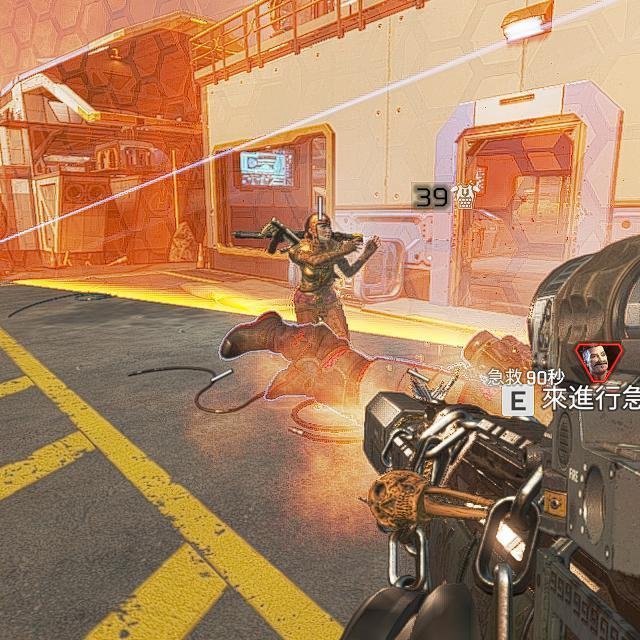avatar: (290, 211, 353, 352)
